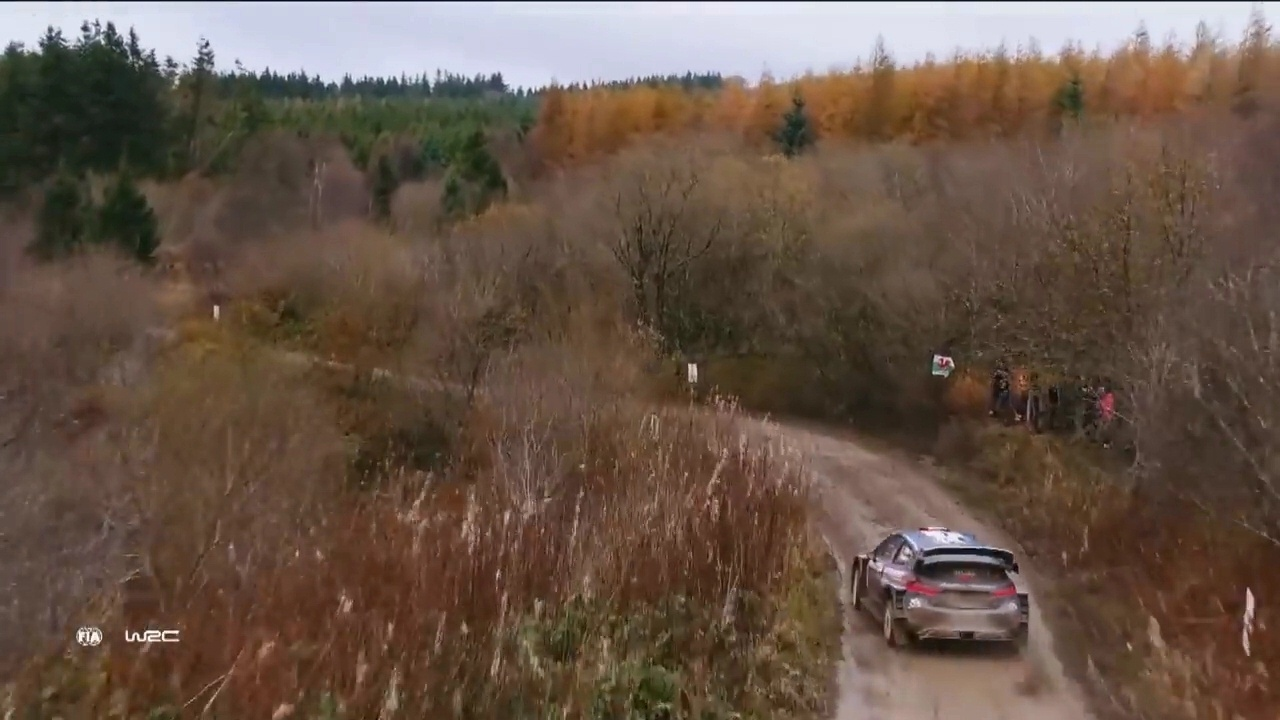araba: (849, 523, 1033, 655)
